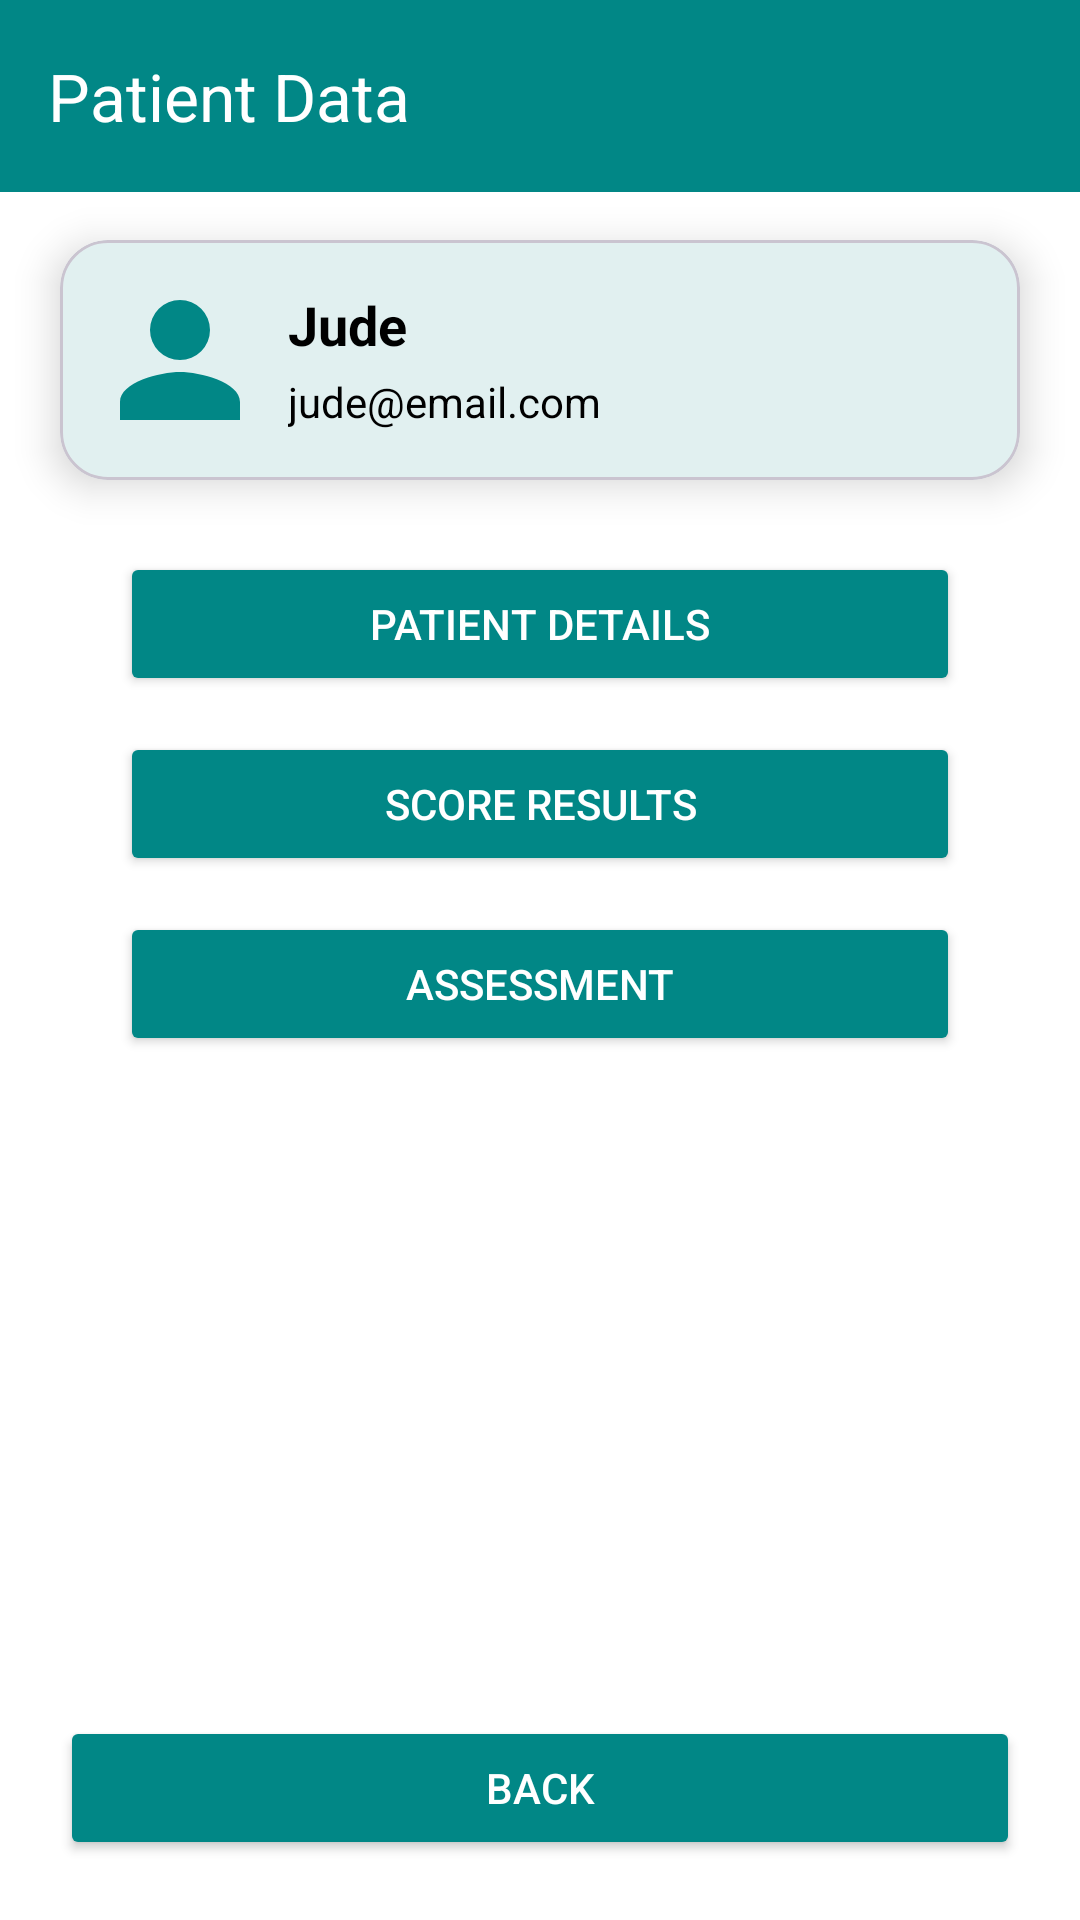

Icon click points for this 1080x1920 phone screenshot, format [x,y]:
user: [180,360]
